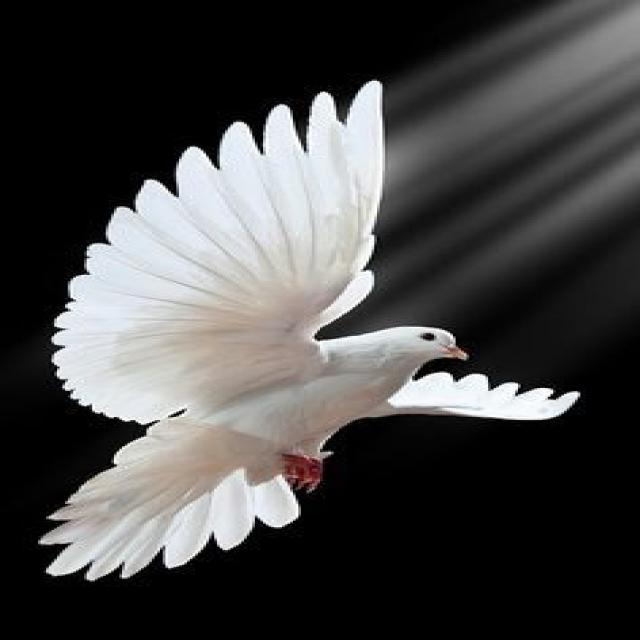Herbivorous: (38, 81, 578, 580)
